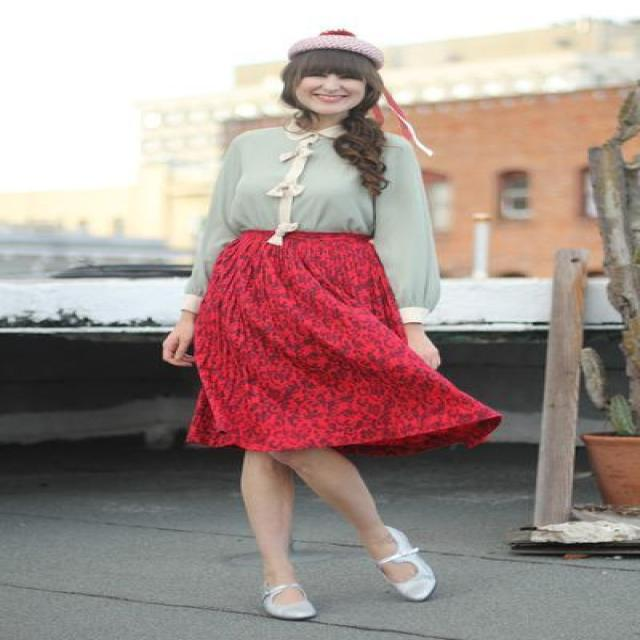shirt: (178, 122, 448, 316)
shoe: (264, 527, 434, 616)
skirt: (180, 229, 478, 452)
